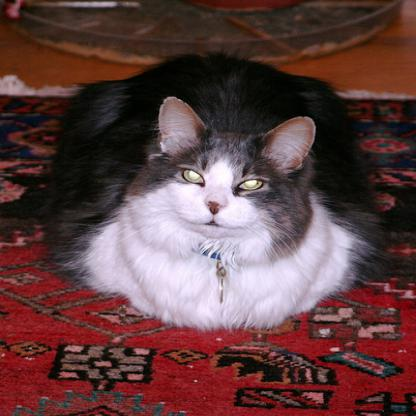cat: (40, 52, 378, 332)
